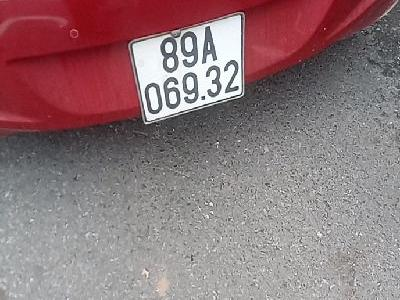number: (129, 11, 243, 125)
